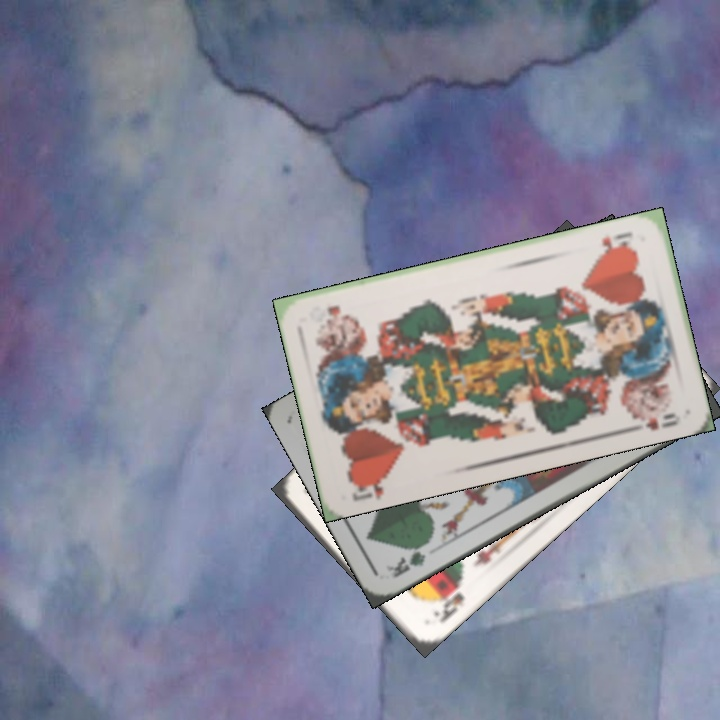GK: (381, 537, 432, 581)
HO: (344, 471, 390, 503), (593, 228, 635, 258)
SK: (429, 576, 467, 626)
